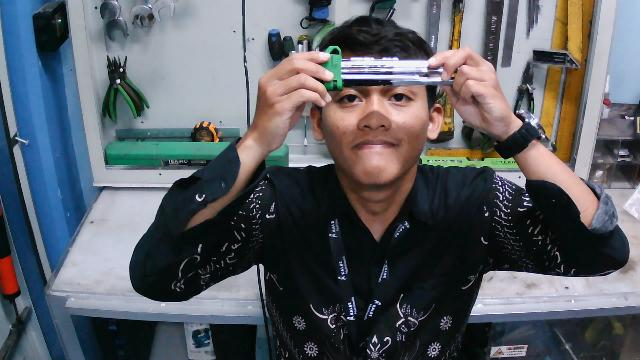kunci_l: (284, 38, 470, 98)
